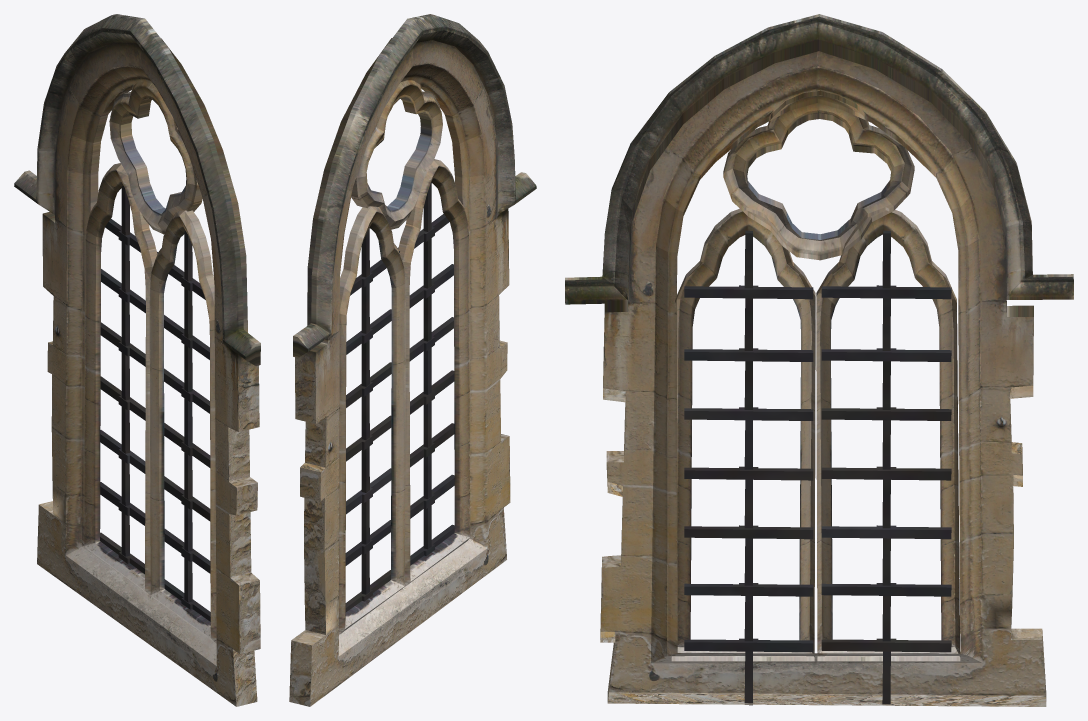
The model's file is Window_A_001.fbx.
The picture shows the model from 3 angles, left to right: view 1: azimuth 30°, elevation 25°; view 2: azimuth 150°, elevation 25°; view 3: azimuth 270°, elevation 25°; orthographic projection. The views are drawn at different scales.
Parts seen in each view (by area): view 1: Window_A_001; view 2: Window_A_001; view 3: Window_A_001.
Part boxes in pixels (x1,y1,x2,y2): Window_A_001: (14,14,260,706); Window_A_001: (289,14,536,706); Window_A_001: (565,14,1073,706).
Bounding box in the file's own units: 20.82 × 356 × 241.
Materials: 1 (1 with a texture image).
